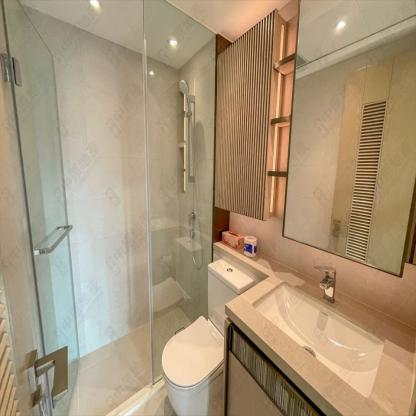Exhaust Fan: (161, 257, 257, 415)
Faucet: (317, 265, 339, 302)
Toilet Sink: (254, 280, 385, 396)
Water Cubicle: (2, 0, 220, 415)
